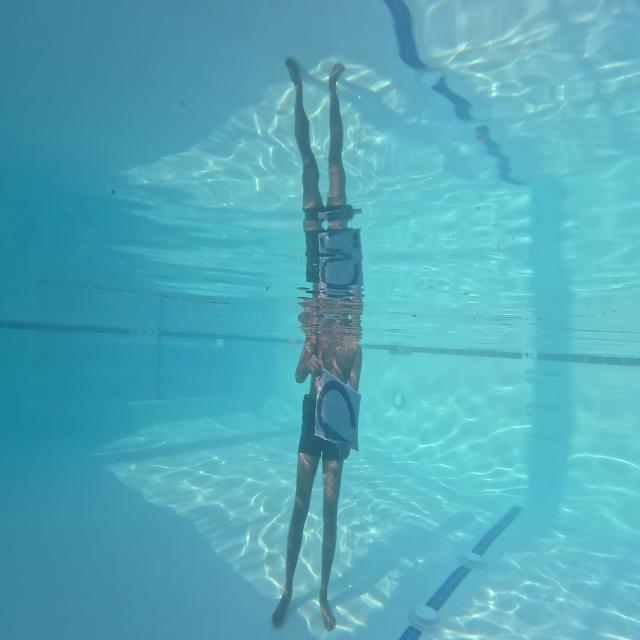blue_side: (308, 362, 366, 465)
